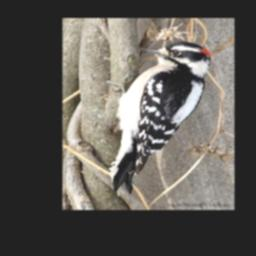Woodpecker: (108, 41, 212, 194)
